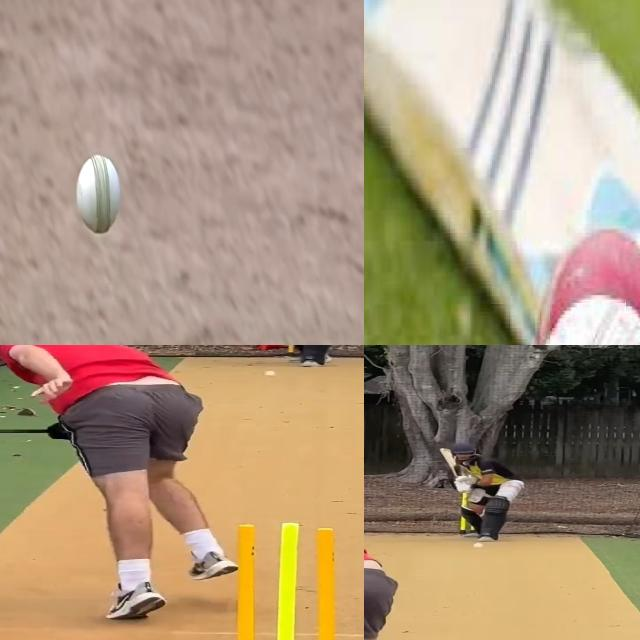Cricket ball: (74, 150, 123, 239), (471, 541, 487, 550), (264, 370, 277, 377)
Stumps: (221, 522, 353, 640)
